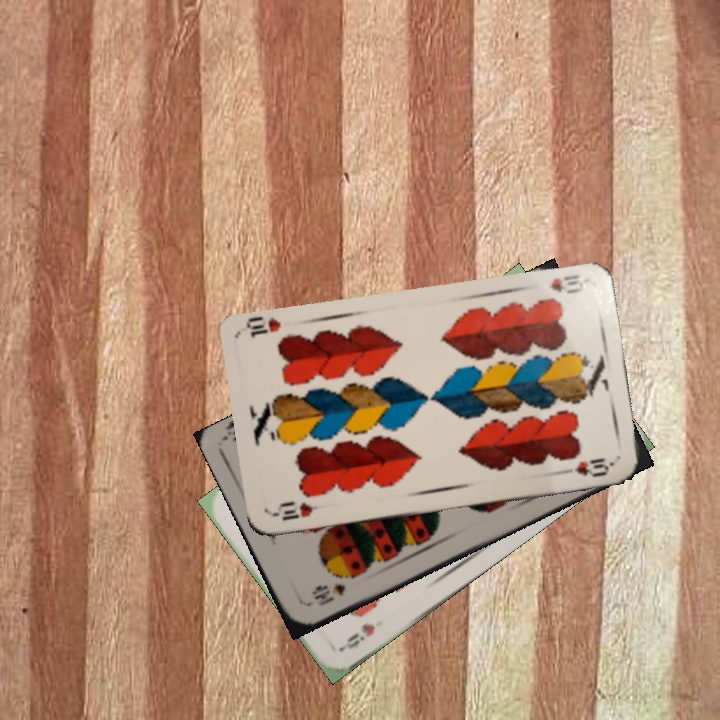H10: (270, 498, 328, 523), (545, 270, 587, 297)
H9: (337, 619, 378, 653)
S10: (304, 579, 348, 609)
